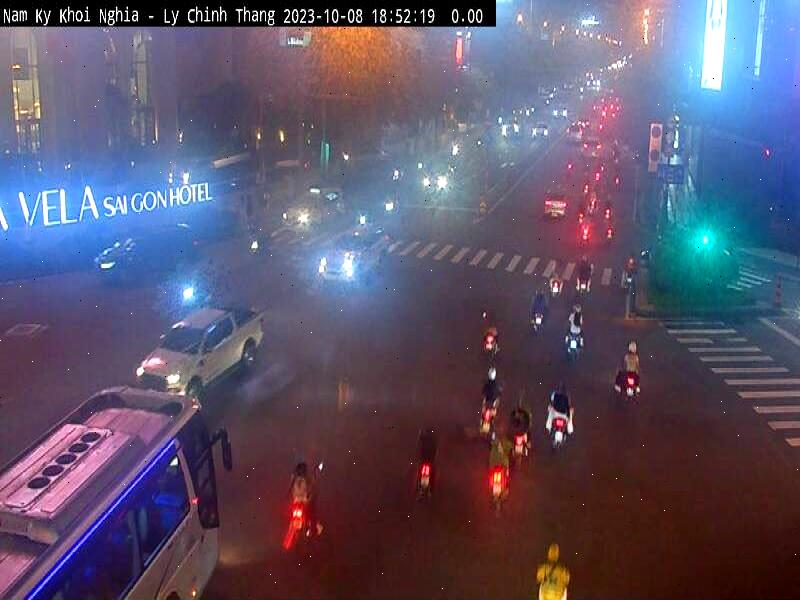bus: (0, 390, 225, 599)
car: (129, 300, 267, 392), (316, 227, 388, 286)
